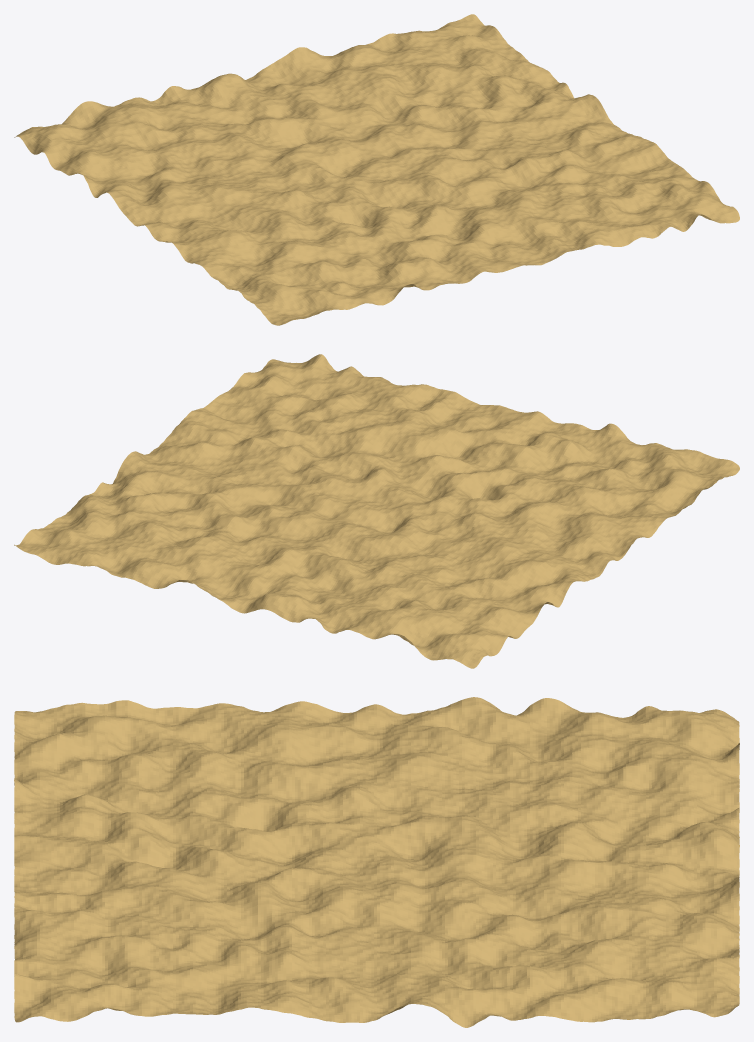
Rendered from dunes.fbx.
3 renders of one model, top to bottom at view 1: azimuth 30°, elevation 25°; view 2: azimuth 150°, elevation 25°; view 3: azimuth 270°, elevation 25°, orthographic. The views are drawn at different scales.
Parts seen in each view (by area): view 1: Plane; view 2: Plane; view 3: Plane.
Boxes of the visible parts, left/top/right/bottom form: Plane: left=14, top=14, right=739, bottom=325; Plane: left=14, top=354, right=739, bottom=668; Plane: left=14, top=697, right=739, bottom=1027.
Size of the model in its own units: 1644 by 74.77 by 1645.
